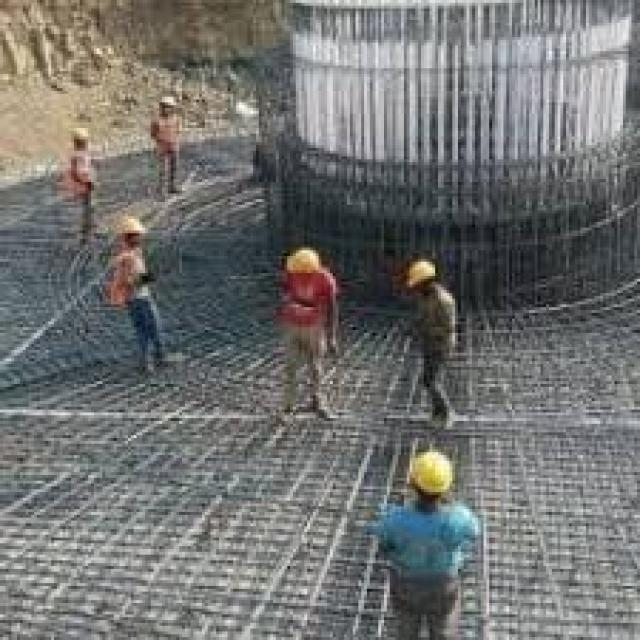Reflective-Jacket: (361, 501, 489, 612), (268, 268, 344, 362), (145, 111, 191, 162), (57, 148, 99, 199)
Safety-Helmet: (398, 441, 467, 506), (273, 239, 330, 282), (102, 208, 156, 250), (398, 253, 449, 293), (62, 122, 96, 151), (154, 88, 182, 114)
